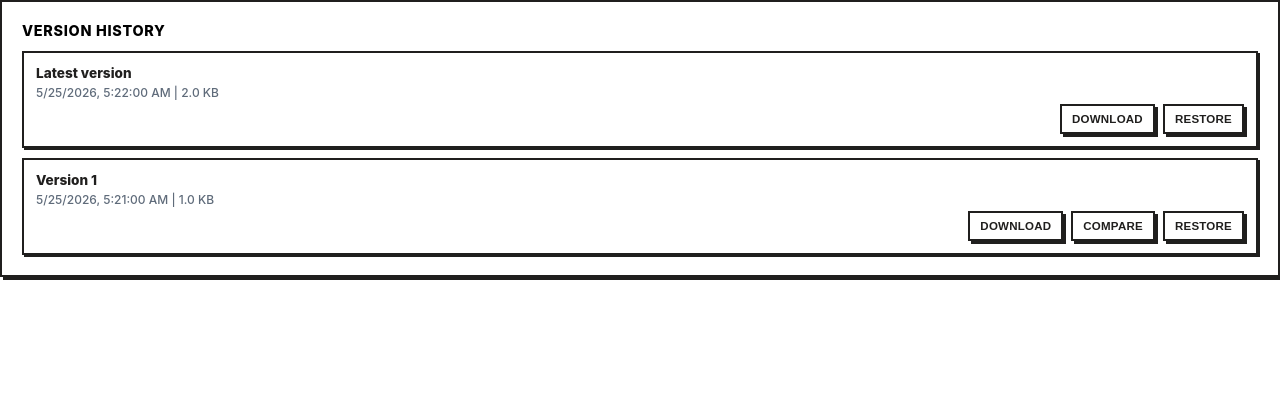
VersionHistoryPanel › compares an older version with the latest and renders the diff
Click the button "Compare".
click(1113, 226)  # box [1071,211,1155,241]
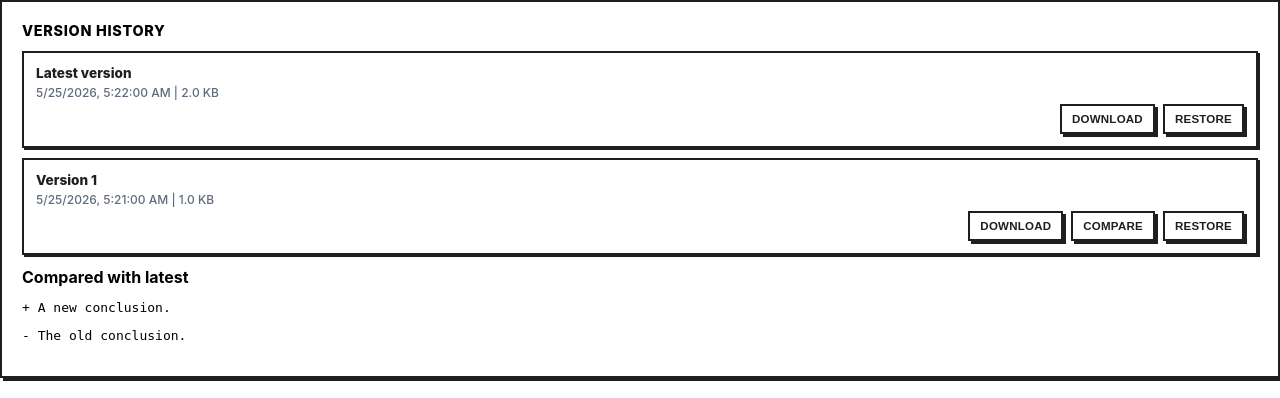
Expected: the message shows "+ A new conclusion.", [22,300,171,315]
Expected: the message shows "- The old conclusion.", [22,328,186,343]
